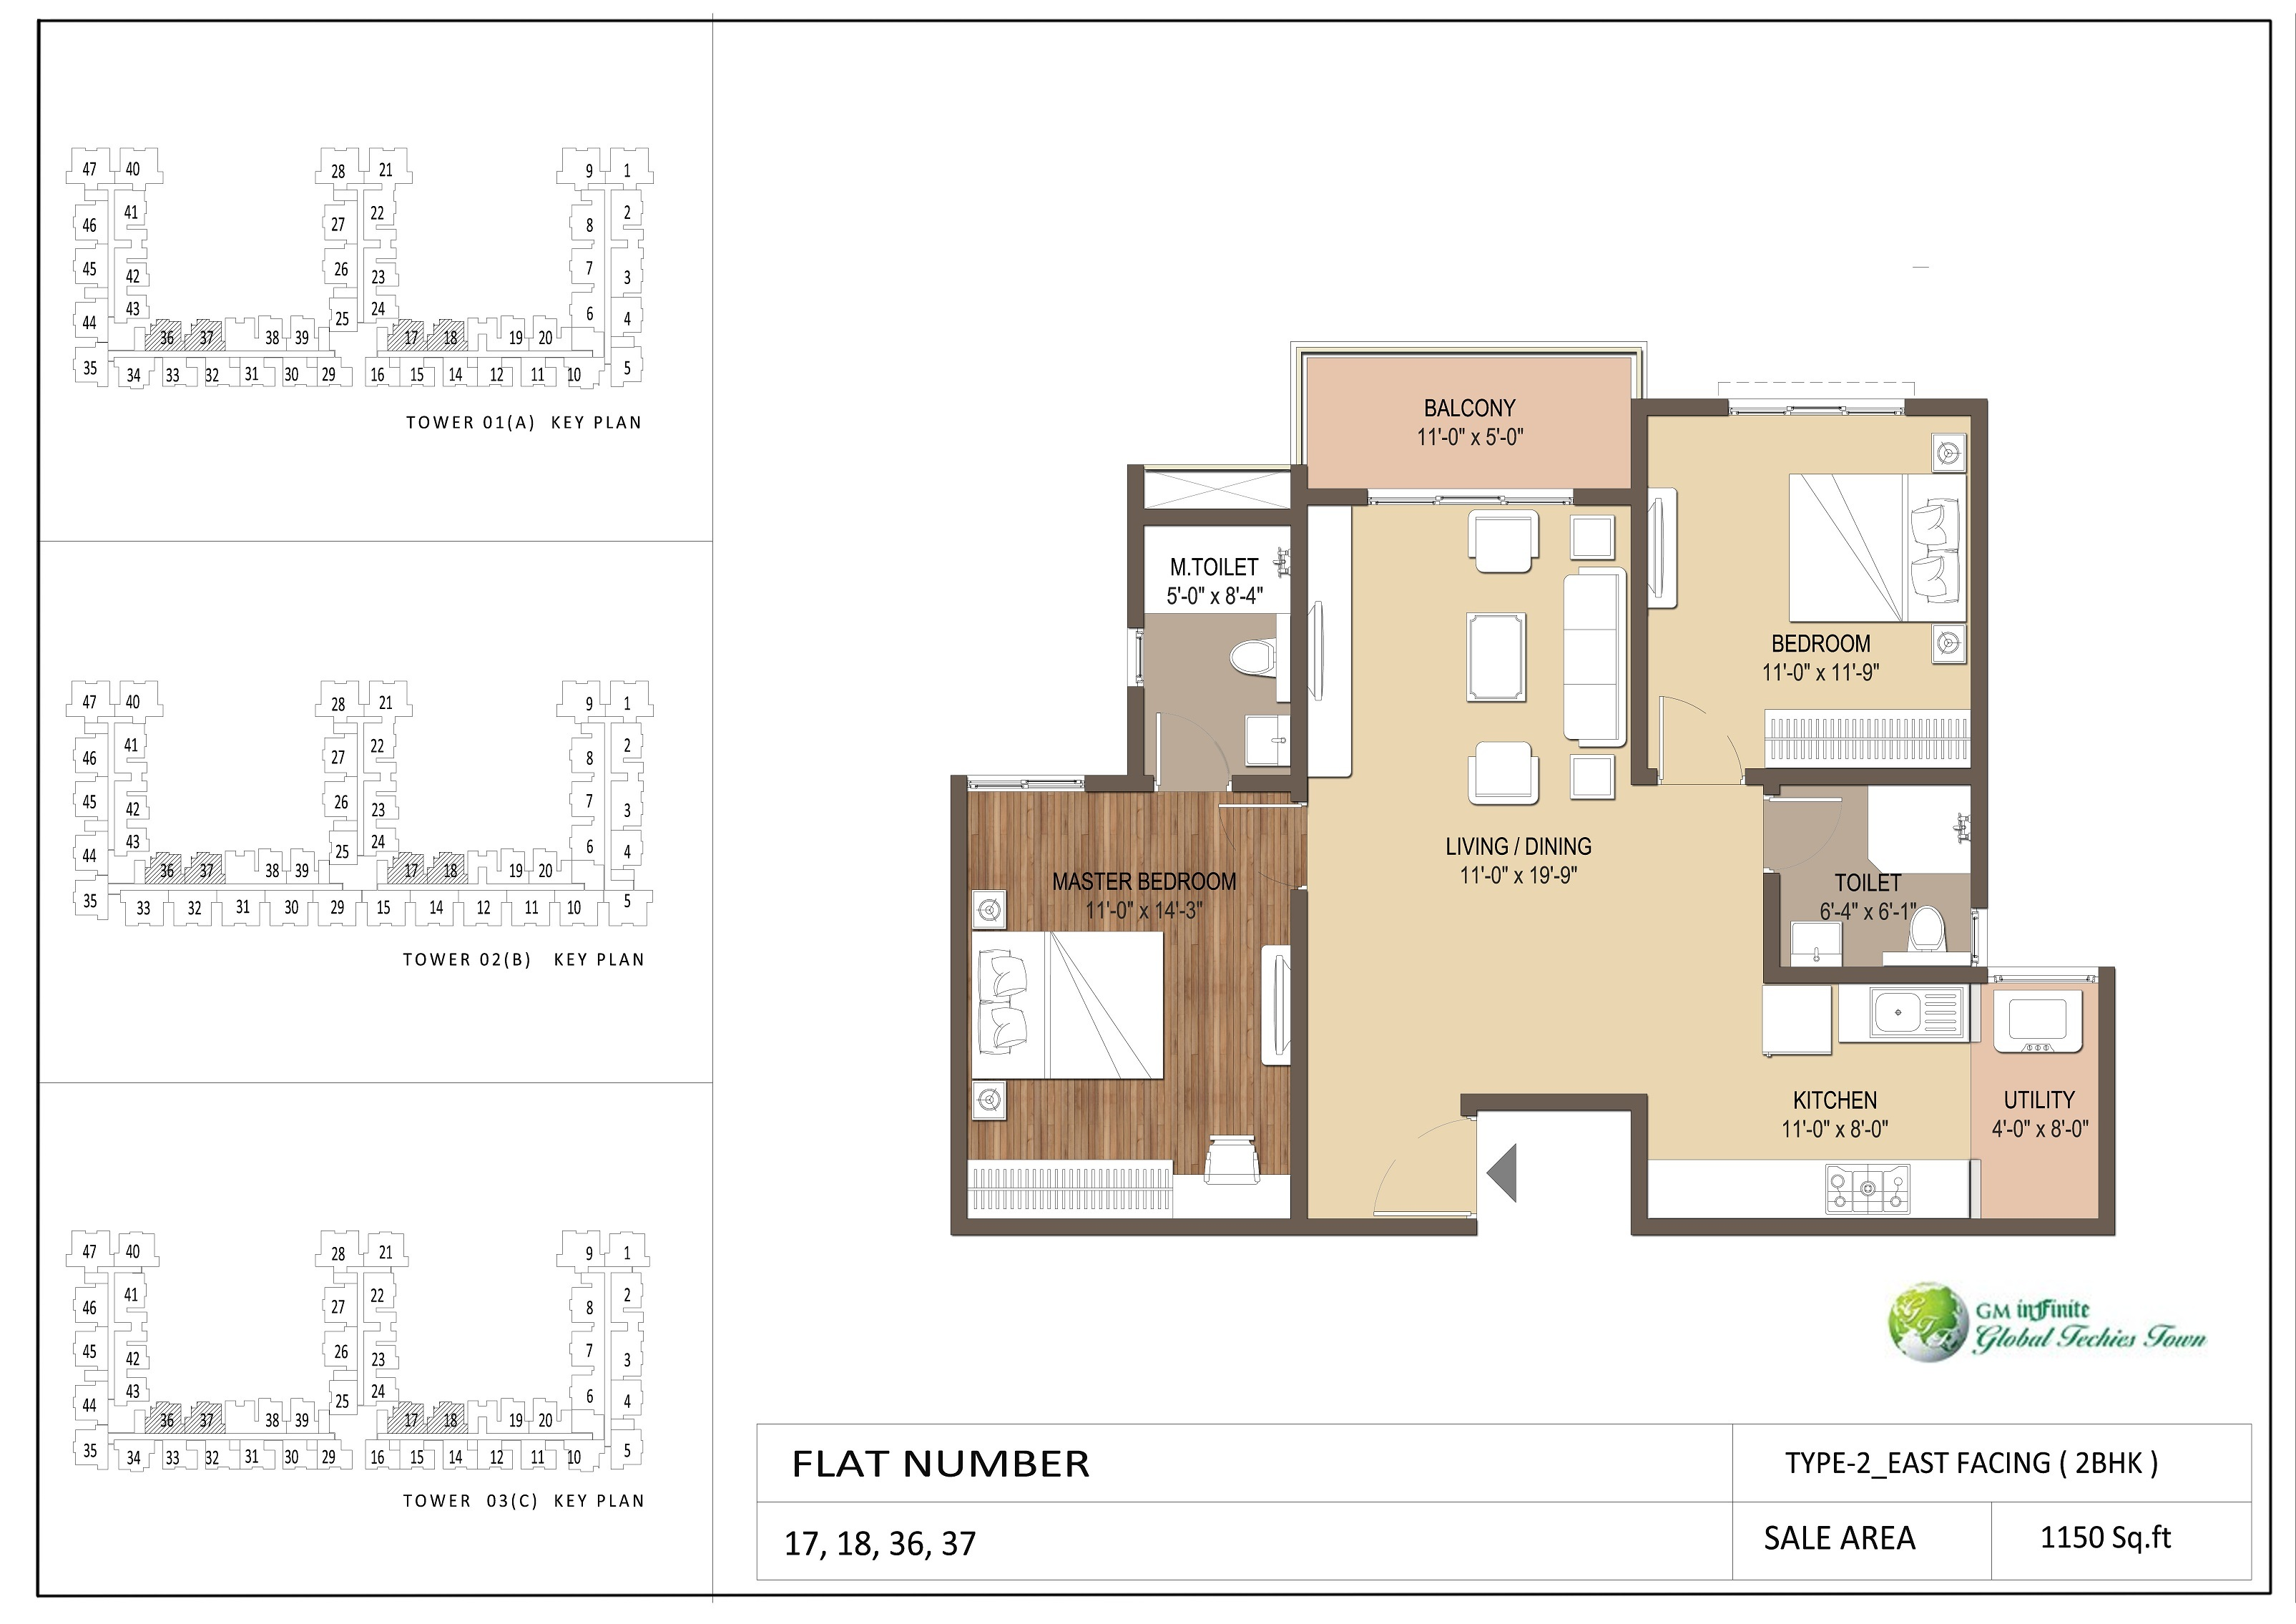window: (1725, 397, 1908, 420), (1365, 487, 1576, 506), (1983, 965, 2103, 986), (964, 772, 1087, 791), (1967, 905, 1990, 970), (1126, 626, 1145, 689)
